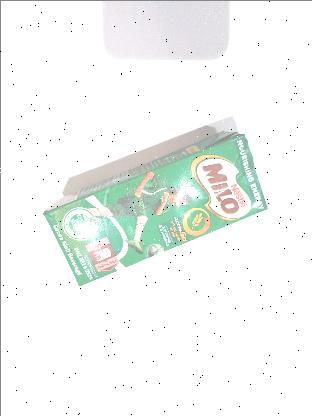Others: (43, 131, 266, 284)
